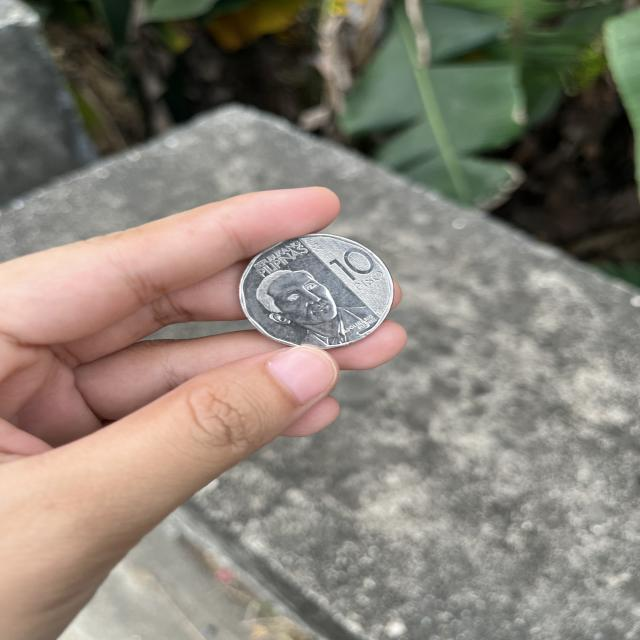10_New_Front: (322, 243, 384, 290)
